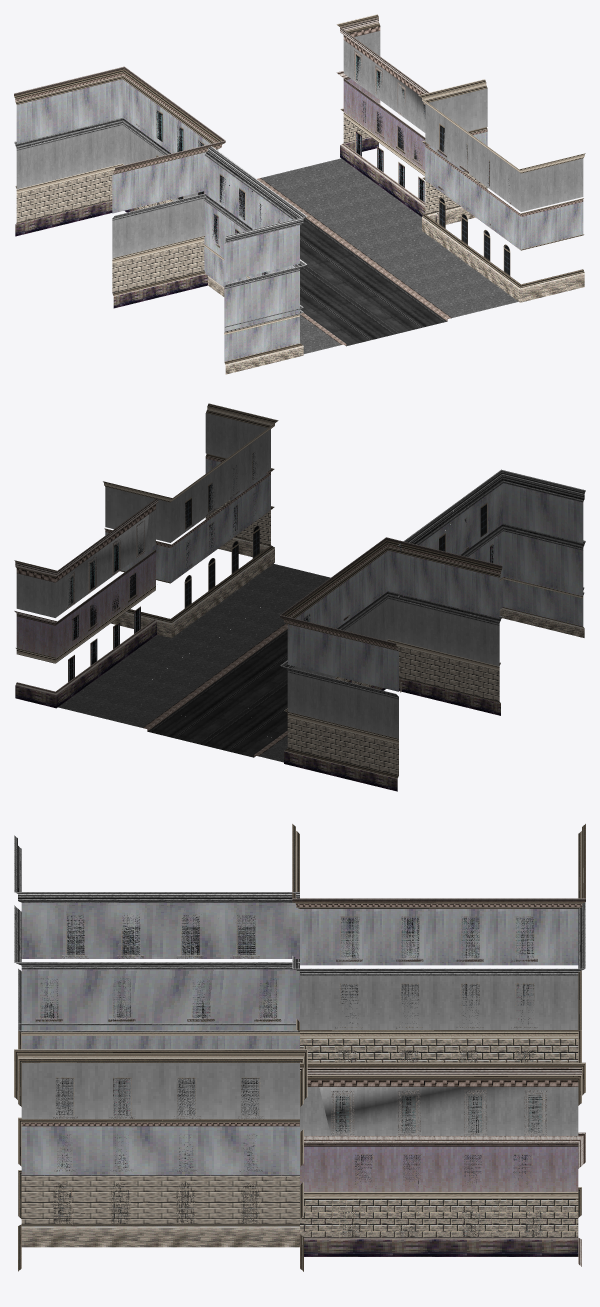
Rendered from Pst_pete_room_1iZ.obj.
The picture shows the model from 3 angles, top to bottom: view 1: azimuth 30°, elevation 25°; view 2: azimuth 150°, elevation 25°; view 3: azimuth 270°, elevation 25°; orthographic projection. The views are drawn at different scales.
Bounding box in the file's own units: 12054 × 4436 × 10944.
Materials: 33 (33 with a texture image).
